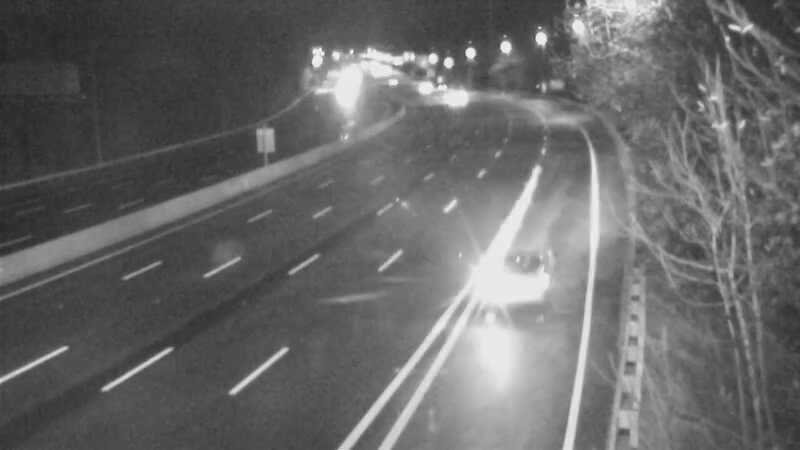vehicle: (465, 253, 545, 333), (373, 54, 423, 104), (416, 65, 466, 115), (399, 62, 449, 112), (429, 75, 479, 125)
